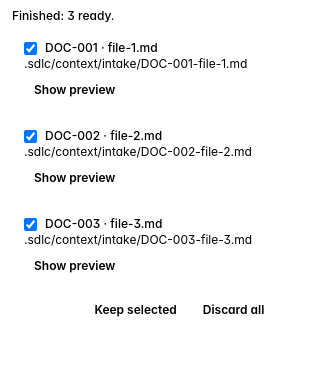
Test: BatchCandidateList: the finished list › shows each ready candidate ticked, with its label, its target and a preview that opens
Expected: the number of list items with test id "batch-candidate" is 3, [24,40,247,104]; [24,128,252,192]; [24,216,252,280]
Expected: the checkbox named "Keep DOC-001 · file-1.md" is checked, [24,42,37,54]
Click the button "Show preview" below "DOC-001 · file-1.md" at point(75, 90), box [24,76,125,104]
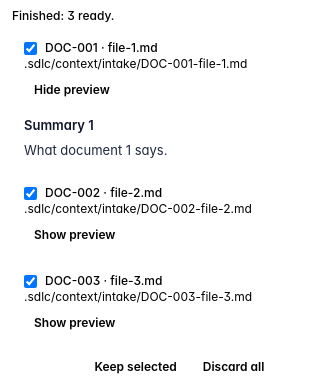
Expected: the heading "Summary 1" is shown, [24,117,94,133]
